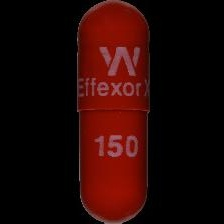49999-599: (0, 0, 224, 224)
